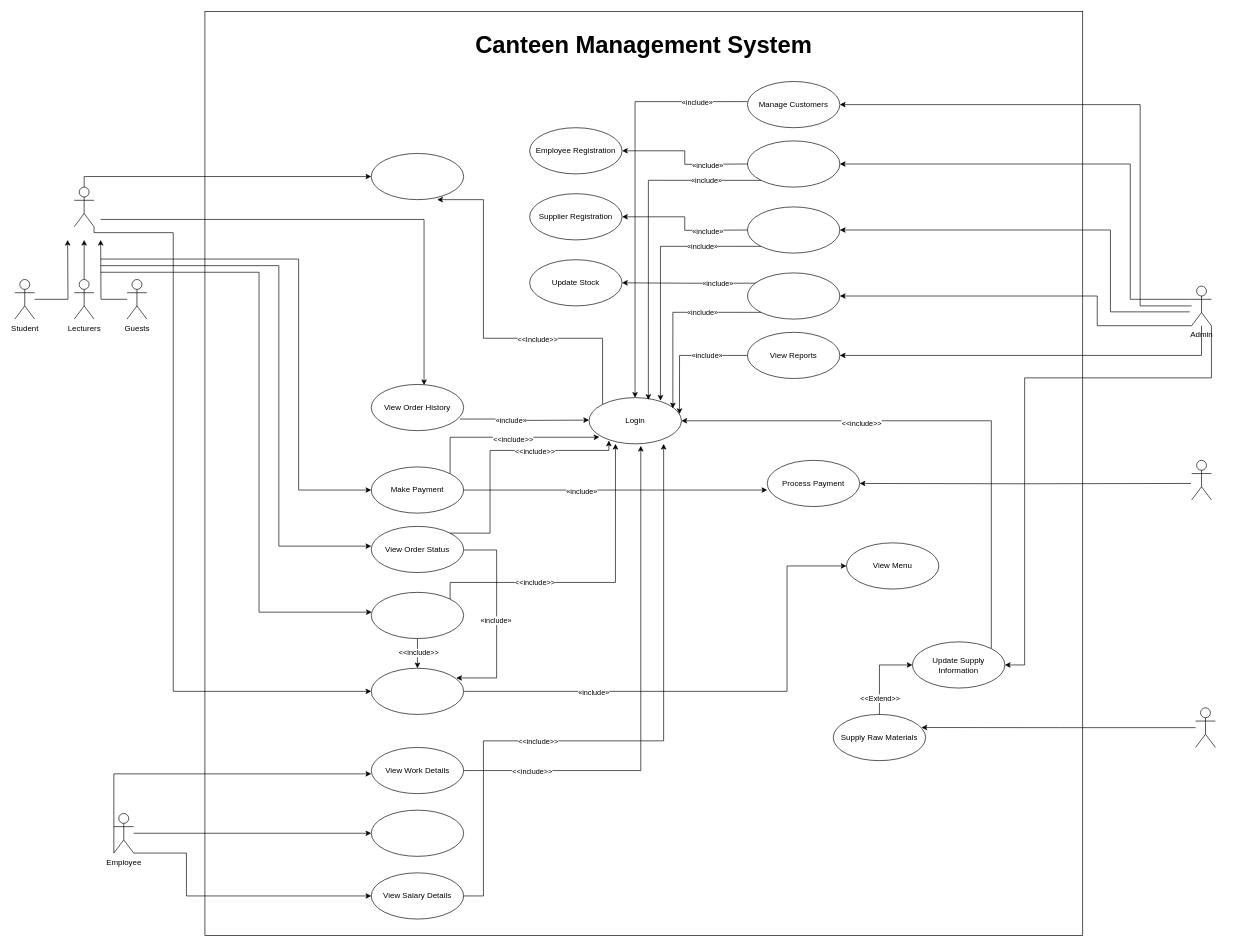
The diagram is 1245 pixels wide and 947 high, and some of its shapes have lost their labels. The centre of each missing label's shape, as x and y in pixels:
"Customer" goes at (x=84, y=206).
"Manage Employees" goes at (x=793, y=163).
"Manage Inventory" goes at (x=793, y=295).
"Manage Suppliers" goes at (x=793, y=229).
"Mark Attendance" goes at (x=417, y=832).
"Payment Gateway" goes at (x=1201, y=480).
"Place Order" goes at (x=417, y=691).
"Provide Feedback" goes at (x=417, y=615).
"Register Account" goes at (x=417, y=176).
"Supplier" goes at (x=1205, y=727).
